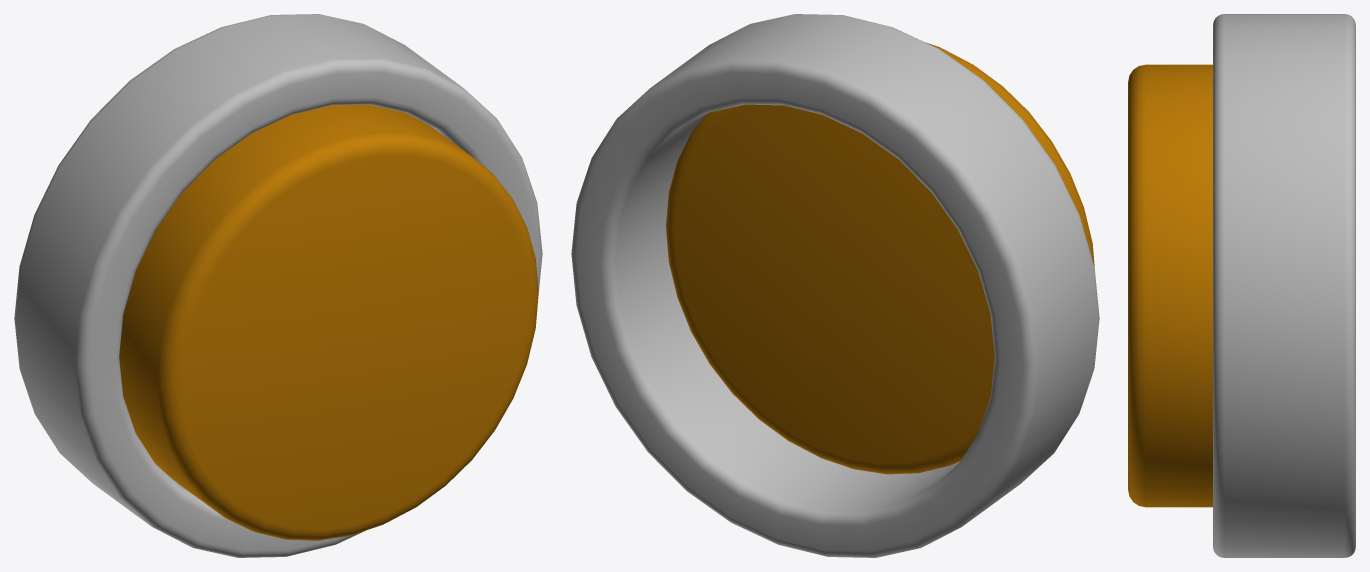
File: pushButton.glb
3 views of the same model, side by side, from view 1: azimuth 30°, elevation 25°; view 2: azimuth 150°, elevation 25°; view 3: azimuth 270°, elevation 25° (orthographic).
Parts seen in each view (by area): view 1: Cylinder, Tube; view 2: Tube, Cylinder; view 3: Tube, Cylinder.
Part boxes in pixels (x1,y1,x2,y2): Cylinder: (119, 104, 538, 540); Tube: (14, 14, 542, 557); Tube: (571, 14, 1099, 557); Cylinder: (666, 42, 1094, 474); Tube: (1213, 14, 1355, 557); Cylinder: (1128, 64, 1212, 507).
Size of the model in its own units: 1.23 by 1.22 by 0.5128.
